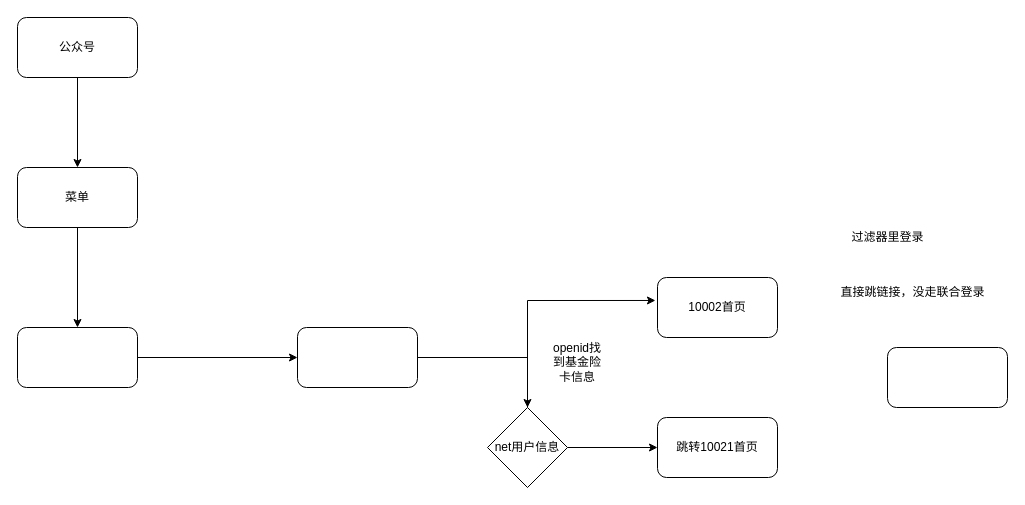
Image size: 1025x505. Some labels were removed from this diagram. The box of each missing label's shape, as (x1, y1, x2, y2) in pixels:
net: (296, 326, 418, 388)
药健康: (16, 326, 138, 388)
跳商城-商城公众号获取信息: (886, 346, 1008, 408)
